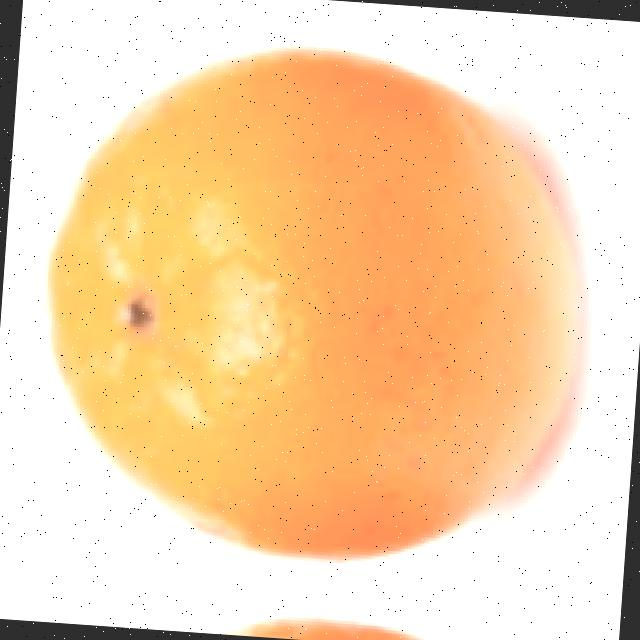orange: (28, 28, 604, 580)
